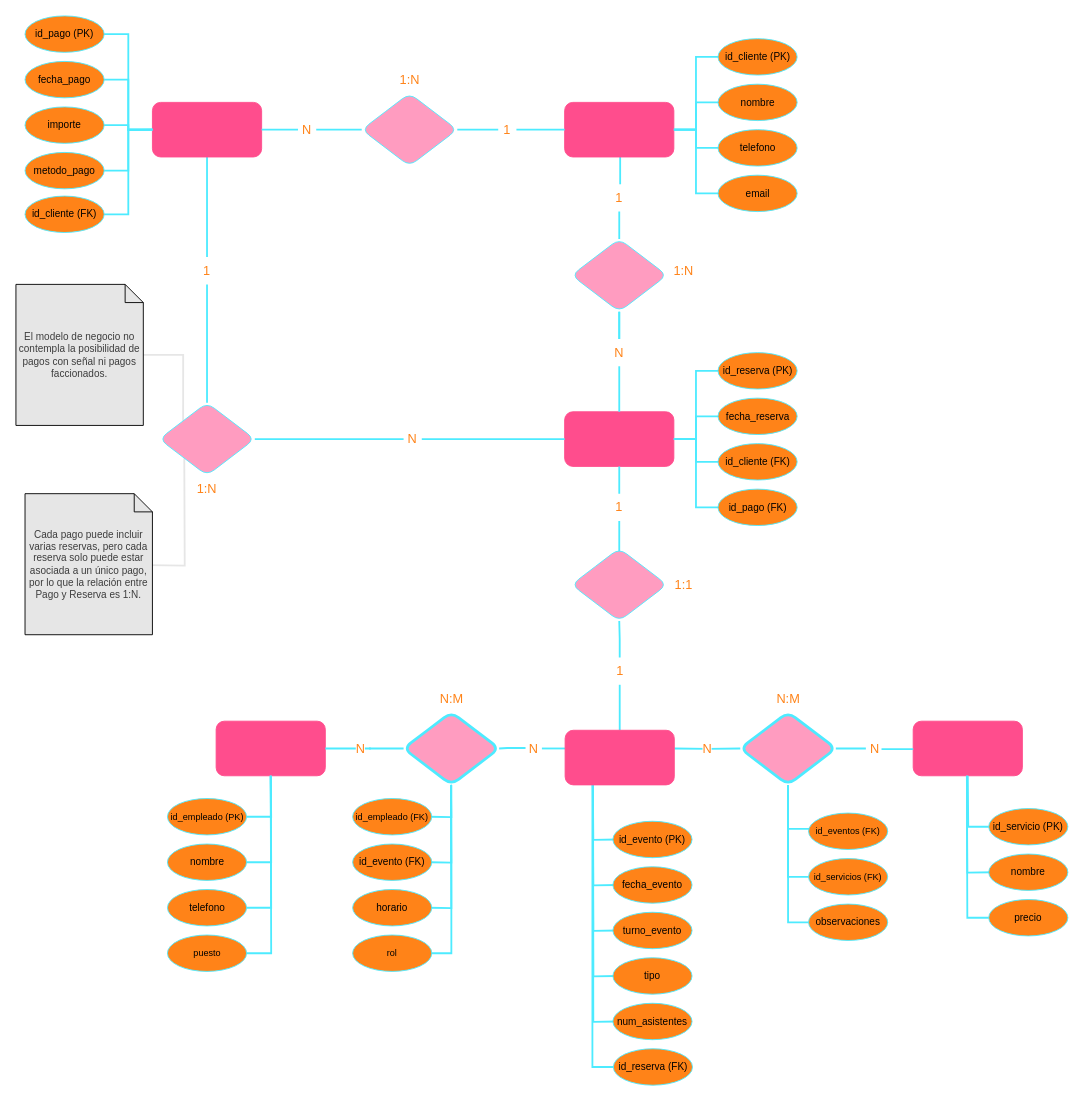
The diagram is 1084 pixels wide and 1101 high, and some of its shapes have lost their labels. The centre of each missing label's shape, as x and y in pixels:
"Cliente" goes at (x=619, y=129).
"Confirma" goes at (x=619, y=275).
"Corresponde" goes at (x=206, y=438).
"Empleado" goes at (x=270, y=748).
"Evento" goes at (x=619, y=757).
"Incluye" goes at (x=787, y=748).
"Pago" goes at (x=207, y=129).
"Pertenece" goes at (x=619, y=584).
"Realiza" goes at (x=409, y=129).
"Reserva" goes at (x=619, y=438).
"Servicio" goes at (x=967, y=748).
"Trabaja" goes at (x=451, y=748).
